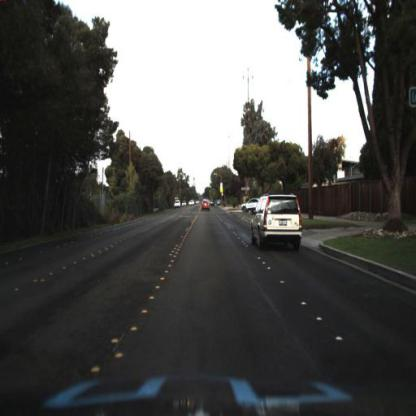car: (252, 194, 306, 254), (202, 197, 214, 211)
